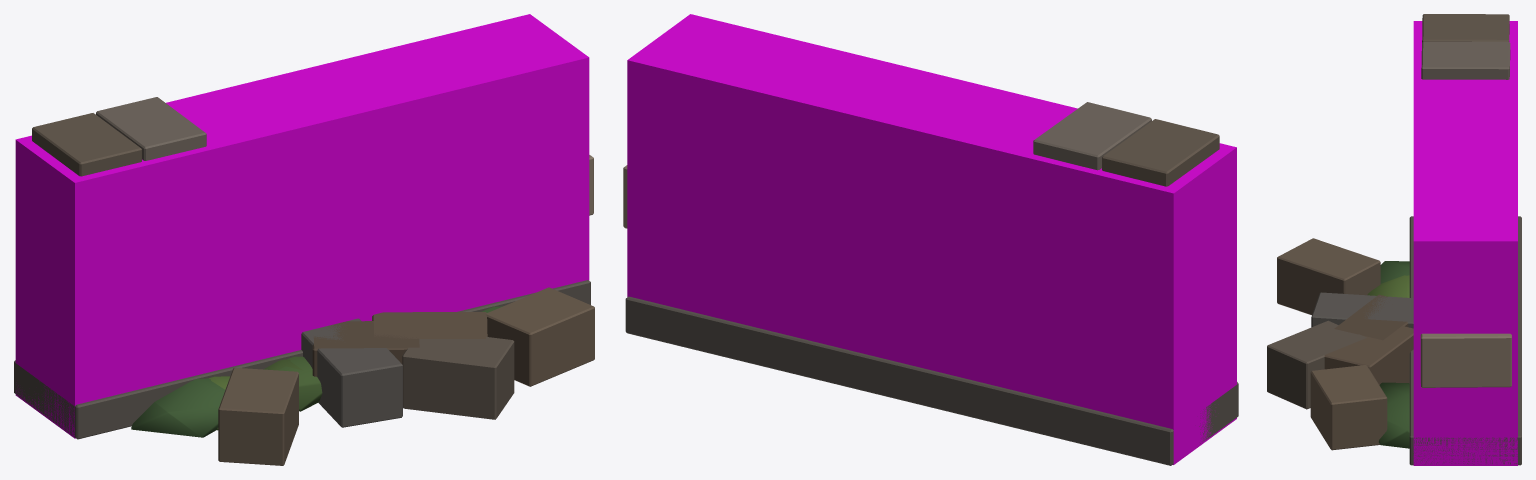
Rendered from ENV_Wall_Stone_Broken_A.glb.
The picture shows the model from 3 angles, left to right: view 1: azimuth 30°, elevation 25°; view 2: azimuth 150°, elevation 25°; view 3: azimuth 270°, elevation 25°; orthographic projection. The views are drawn at different scales.
Parts seen in each view (by area): view 1: COL_Wall, ENV_Wall_Stone_Broken_A_Mesh; view 2: COL_Wall, ENV_Wall_Stone_Broken_A_Mesh; view 3: ENV_Wall_Stone_Broken_A_Mesh, COL_Wall.
Boxes of the visible parts, x1,y1,x2,y2 form: COL_Wall: (15,14,589,438); ENV_Wall_Stone_Broken_A_Mesh: (14,97,594,465); COL_Wall: (627,14,1236,464); ENV_Wall_Stone_Broken_A_Mesh: (623,102,1238,465); ENV_Wall_Stone_Broken_A_Mesh: (1267,14,1521,465); COL_Wall: (1413,21,1517,465).
Bounding box in the file's own units: 4.07 × 2.1 × 1.95.
